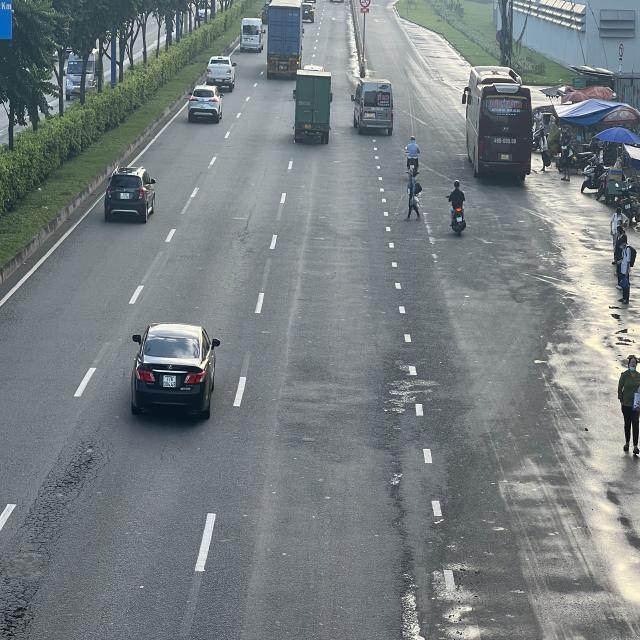car: (134, 323, 223, 421), (106, 166, 158, 222), (188, 86, 225, 122), (205, 56, 236, 90)
coach: (465, 68, 534, 182)
container: (265, 2, 304, 78)
truck: (292, 70, 333, 145)
van: (351, 78, 394, 135), (240, 17, 266, 54)
